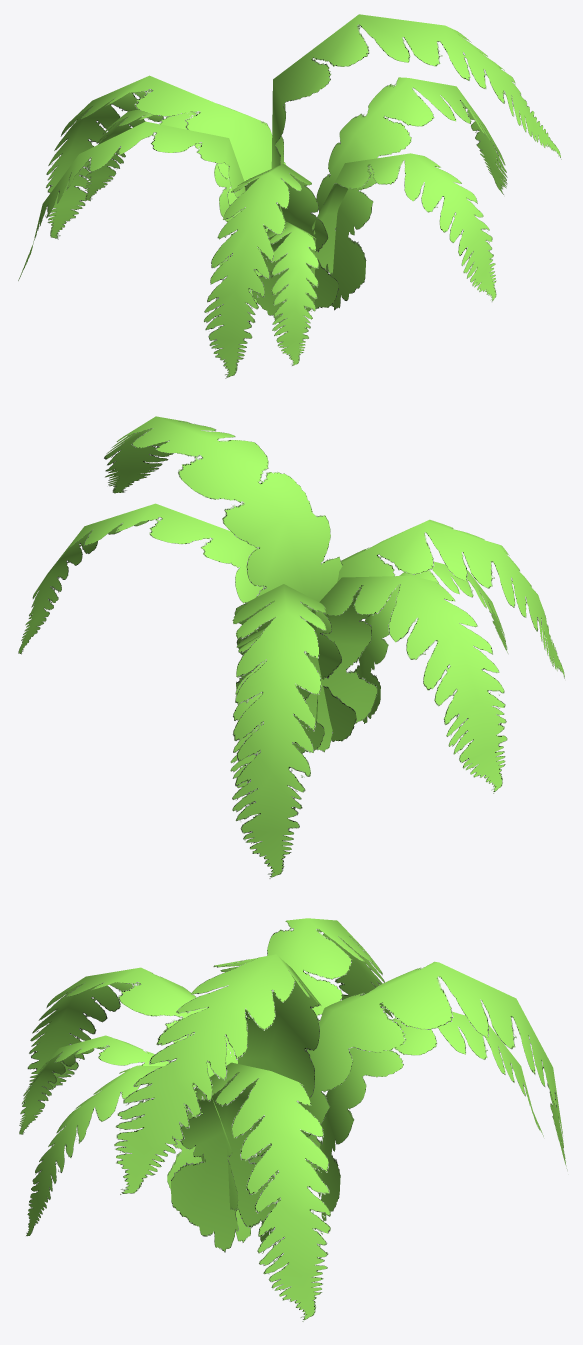
File: fern2.obj
3 renders of one model, top to bottom at view 1: azimuth 30°, elevation 25°; view 2: azimuth 150°, elevation 25°; view 3: azimuth 270°, elevation 25°, orthographic. The views are drawn at different scales.
Parts seen in each view (by area): view 1: bush_fern_joined.001_Plane.000; view 2: bush_fern_joined.001_Plane.000; view 3: bush_fern_joined.001_Plane.000.
Part boxes in pixels (left/top/right/bottom): bush_fern_joined.001_Plane.000: left=18, top=14, right=561, bottom=378; bush_fern_joined.001_Plane.000: left=18, top=416, right=564, bottom=878; bush_fern_joined.001_Plane.000: left=19, top=918, right=567, bottom=1321.
Size of the model in its own units: 6.58 by 3.77 by 5.61.
Materials: 1 (1 with a texture image).
